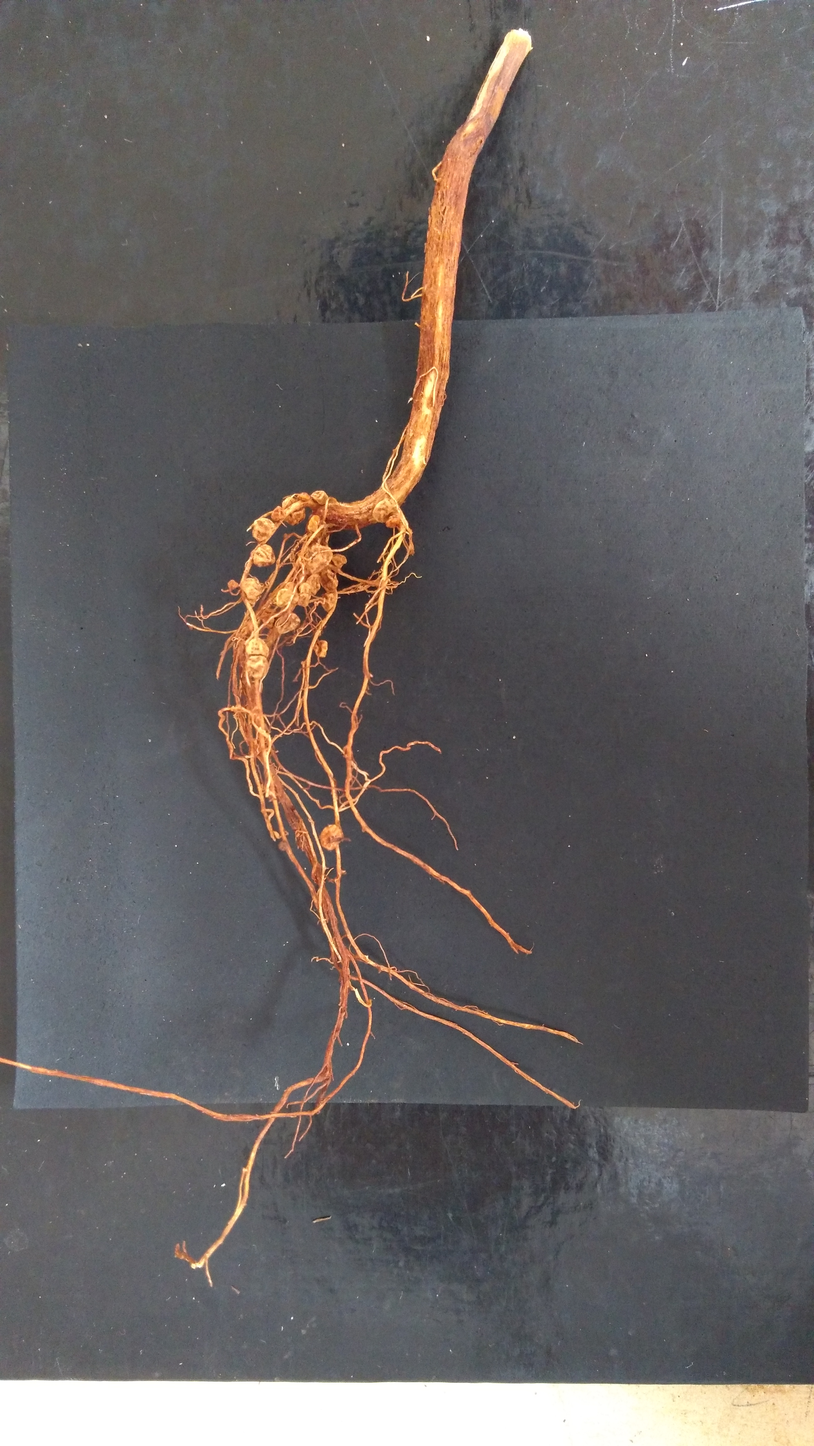nodule: (246, 638, 269, 679), (306, 544, 332, 574), (372, 499, 400, 523), (282, 497, 306, 525), (239, 578, 263, 605), (320, 825, 342, 850), (252, 519, 276, 541), (253, 544, 275, 567), (277, 612, 300, 632), (319, 570, 338, 593), (290, 548, 309, 570), (305, 520, 326, 538), (321, 588, 336, 612), (297, 583, 311, 607), (276, 588, 292, 607), (305, 574, 320, 594), (285, 583, 300, 603), (262, 608, 277, 628), (311, 490, 328, 505), (312, 640, 327, 657), (307, 515, 320, 533), (332, 553, 346, 568), (386, 515, 401, 528), (271, 506, 284, 521), (311, 862, 320, 883), (268, 592, 280, 607), (297, 569, 307, 584), (297, 492, 311, 501), (228, 580, 240, 589), (279, 840, 289, 850), (283, 533, 289, 540)
